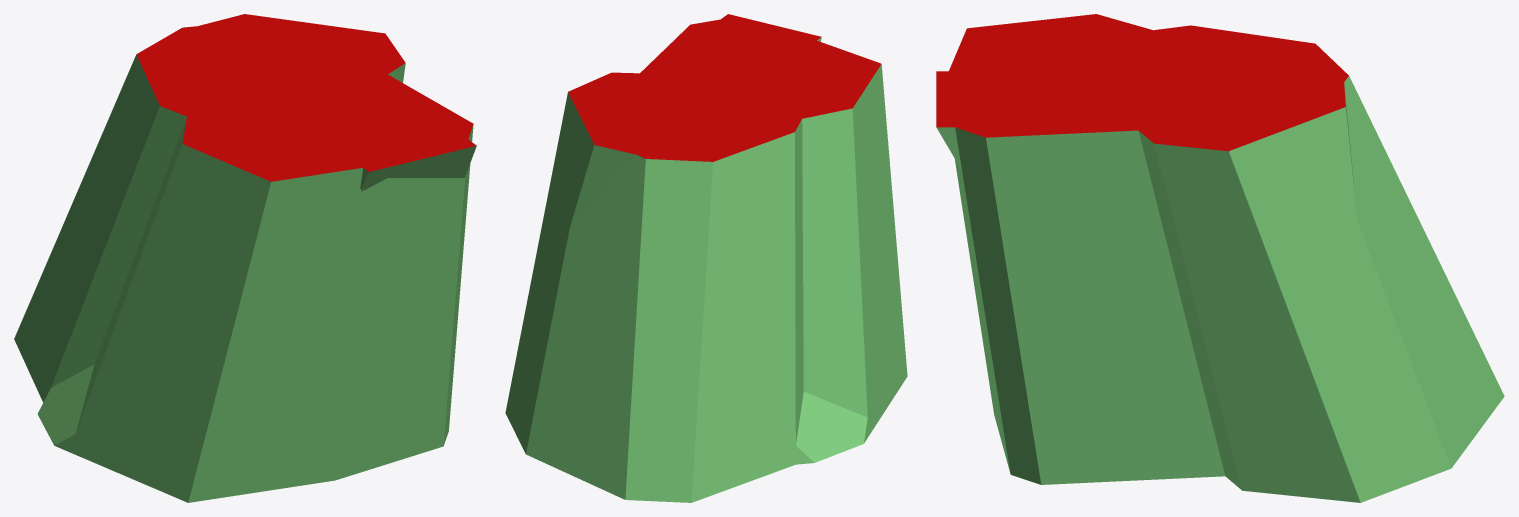
Rendered from x_lock_BIGMICRO_skala_part2_1_rmstrd.fbx.
The picture shows the model from 3 angles, left to right: view 1: azimuth 30°, elevation 25°; view 2: azimuth 150°, elevation 25°; view 3: azimuth 270°, elevation 25°; orthographic projection. The views are drawn at different scales.
Parts seen in each view (by area): view 1: x_lock_BIGMICRO_skala_part2_1_rmstrd1; view 2: x_lock_BIGMICRO_skala_part2_1_rmstrd1; view 3: x_lock_BIGMICRO_skala_part2_1_rmstrd1.
Boxes of the visible parts, <box> form: x_lock_BIGMICRO_skala_part2_1_rmstrd1: <box>14,14,476,502</box>; x_lock_BIGMICRO_skala_part2_1_rmstrd1: <box>505,14,907,502</box>; x_lock_BIGMICRO_skala_part2_1_rmstrd1: <box>936,14,1504,502</box>.
Size of the model in its own units: 7.73 by 6.98 by 10.37.
